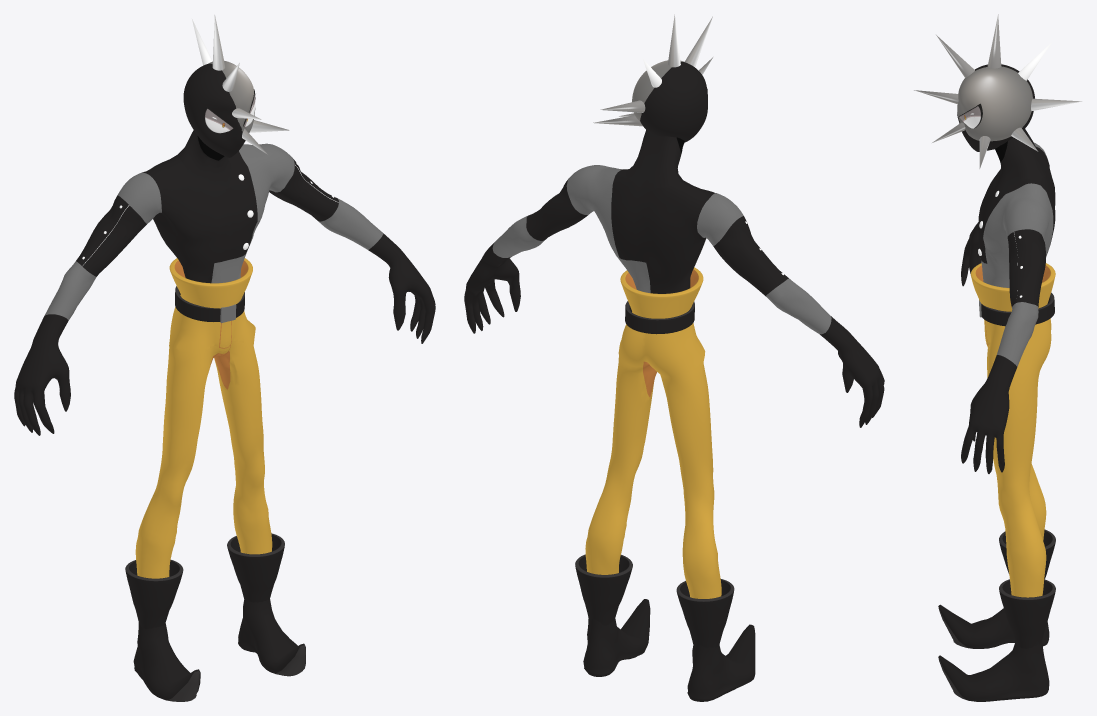
File: derek_kreg.glb
3 renders of one model, left to right at view 1: azimuth 30°, elevation 25°; view 2: azimuth 150°, elevation 25°; view 3: azimuth 270°, elevation 25°, orthographic.
Parts seen in each view (by area): view 1: polySurface56, polySurface37, polySurface67, polySurface59, polySurface65, polySurface66, polySurface58, polySurface61, polySurface52, polySurface57, pCylinder2, Derek_3d_2022:pPipe3; view 2: polySurface56, polySurface67, polySurface37, polySurface59, polySurface66, polySurface58, polySurface61, polySurface52, polySurface57, pCylinder2, polySurface65, Derek_3d_2022:pPipe3; view 3: polySurface56, polySurface37, polySurface59, polySurface58, polySurface57, polySurface52, polySurface66, pCylinder2, Derek_3d_2022:pPipe3, polySurface65, polySurface61.
Boxes of the visible parts, box(x1,y1,x2,y2) form: polySurface56: box(135, 130, 278, 629); polySurface37: box(183, 15, 289, 157); polySurface67: box(31, 175, 159, 348); polySurface59: box(269, 144, 407, 267); polySurface65: box(14, 347, 70, 435); polySurface66: box(133, 624, 200, 701); polySurface58: box(238, 599, 305, 676); polySurface61: box(125, 560, 183, 629); polySurface52: box(227, 533, 284, 602); polySurface57: box(388, 257, 435, 343); pCylinder2: box(169, 258, 252, 308); Derek_3d_2022:pPipe3: box(175, 286, 244, 322); polySurface56: box(582, 130, 724, 650); polySurface67: box(702, 196, 856, 357); polySurface37: box(593, 14, 712, 142); polySurface59: box(480, 165, 593, 270); polySurface66: box(687, 624, 755, 701); polySurface58: box(583, 599, 650, 676); polySurface61: box(676, 579, 734, 648); polySurface52: box(575, 554, 632, 625); polySurface57: box(464, 258, 520, 333); pCylinder2: box(620, 267, 703, 318); polySurface65: box(838, 339, 884, 427); Derek_3d_2022:pPipe3: box(625, 301, 694, 334); polySurface56: box(978, 129, 1055, 648); polySurface37: box(914, 14, 1081, 168); polySurface59: box(984, 205, 1048, 396); polySurface58: box(938, 643, 1049, 701); polySurface57: box(961, 384, 1009, 473); polySurface52: box(999, 579, 1055, 648); polySurface66: box(938, 604, 1049, 648); pCylinder2: box(970, 263, 1055, 311); Derek_3d_2022:pPipe3: box(979, 292, 1054, 326); polySurface65: box(961, 222, 981, 286); polySurface61: box(999, 529, 1055, 579).
Size of the model in its own units: 0.3401 by 0.5231 by 0.1232.
Materials: 13 (12 with a texture image).
